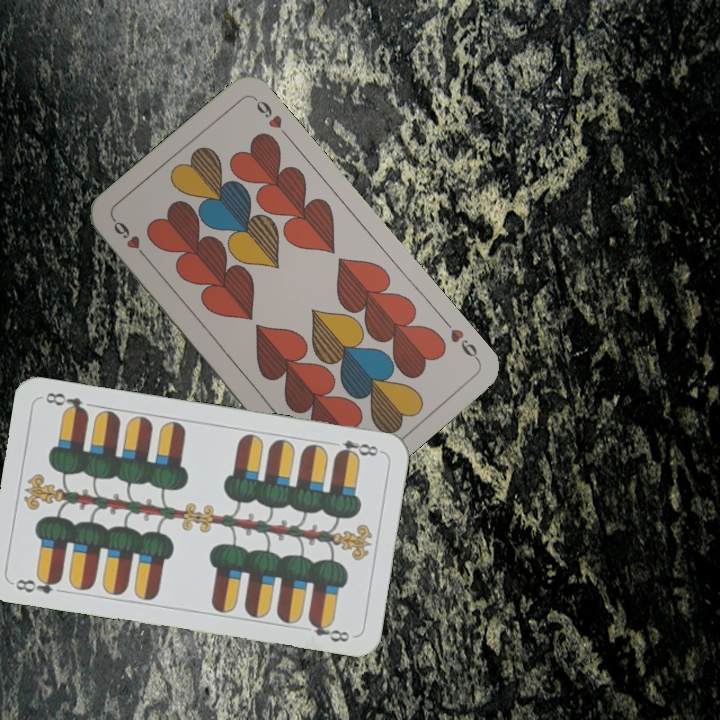E8: (11, 571, 64, 596), (332, 436, 384, 461)
H9: (109, 214, 152, 263), (446, 324, 482, 364)
